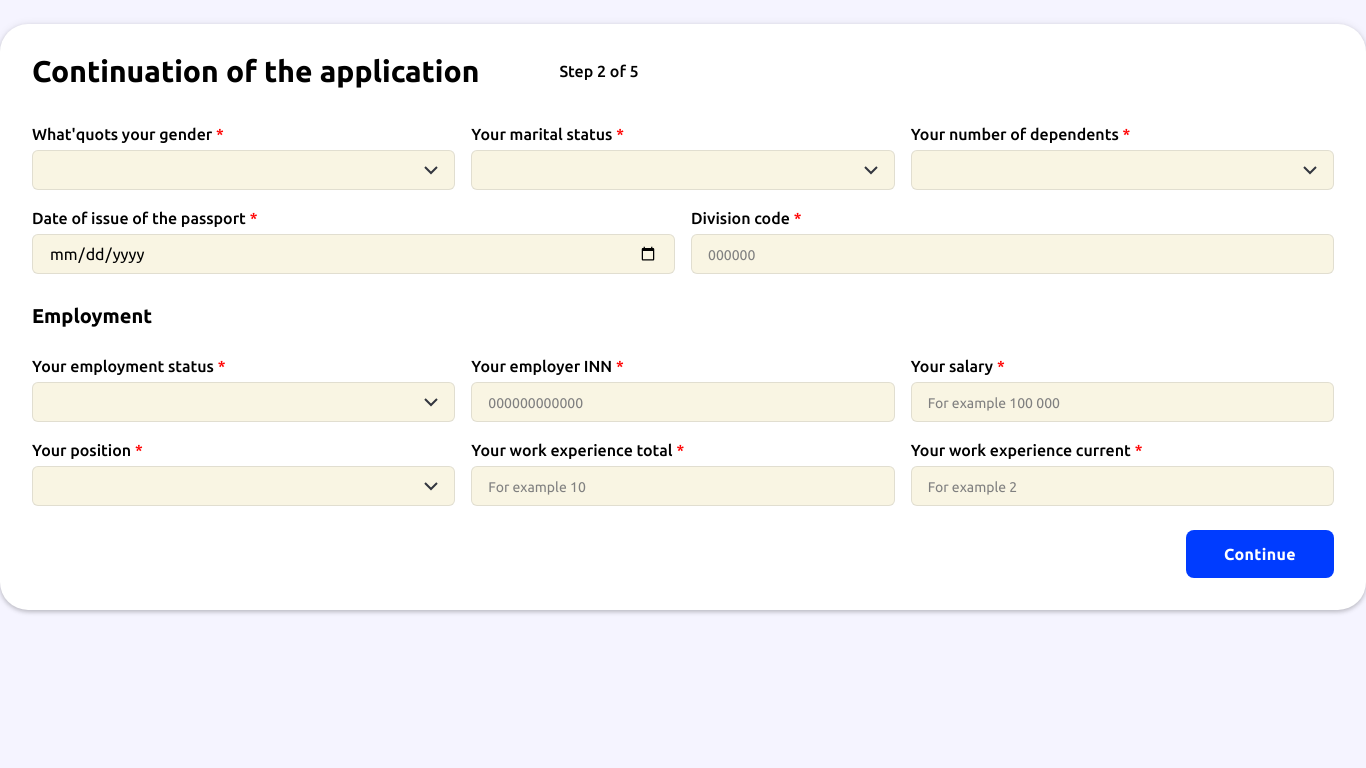
Test: ScoringForm › Отправка формы с невалидными данными, проверка валидации и функция отправки данных не должна быть вызвана
Click the button with test id "scoring-submit": (1260, 554) [1186,530,1334,578]
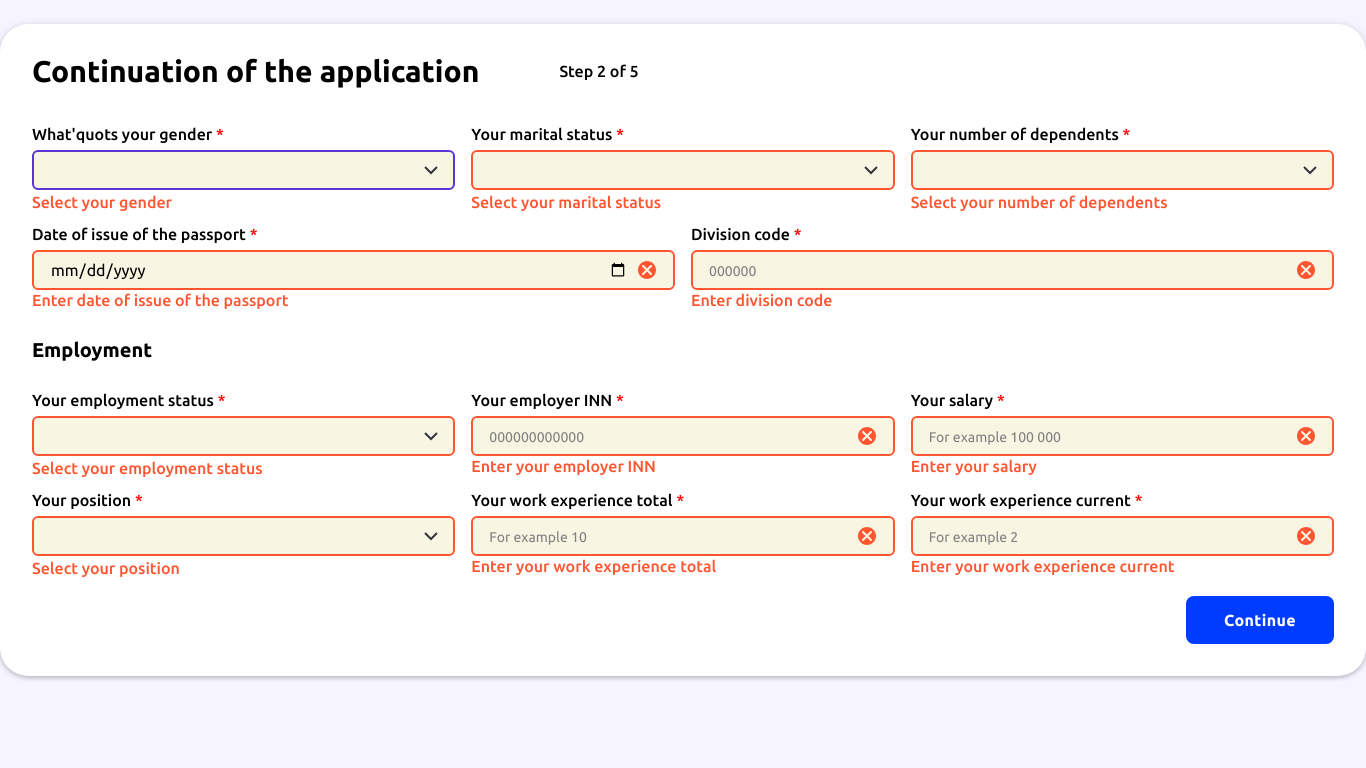
Expected: the text "Select your gender" is shown, [32,193,172,211]
Expected: the text "Select your marital status" is shown, [471,193,661,211]
Expected: the text "Select your number of dependents" is shown, [911,193,1168,211]
